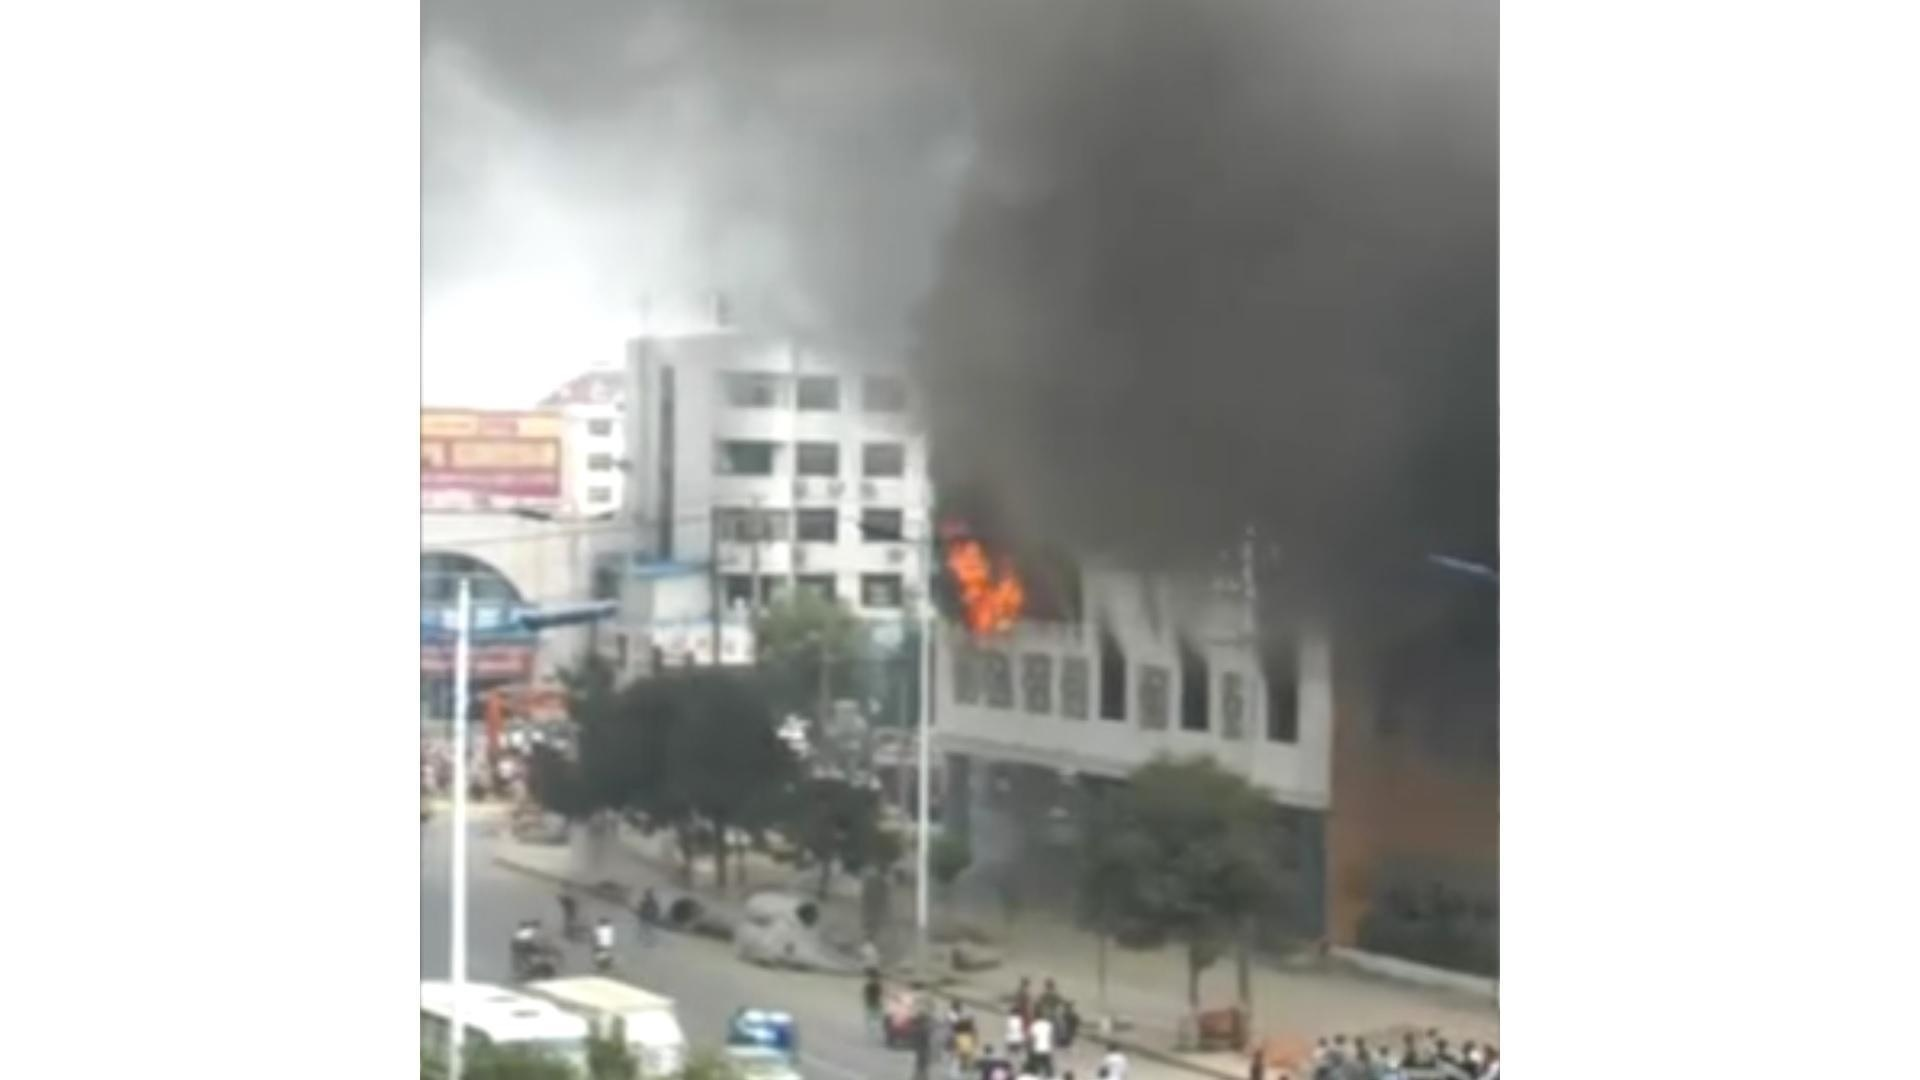fire: (942, 531, 1026, 637)
